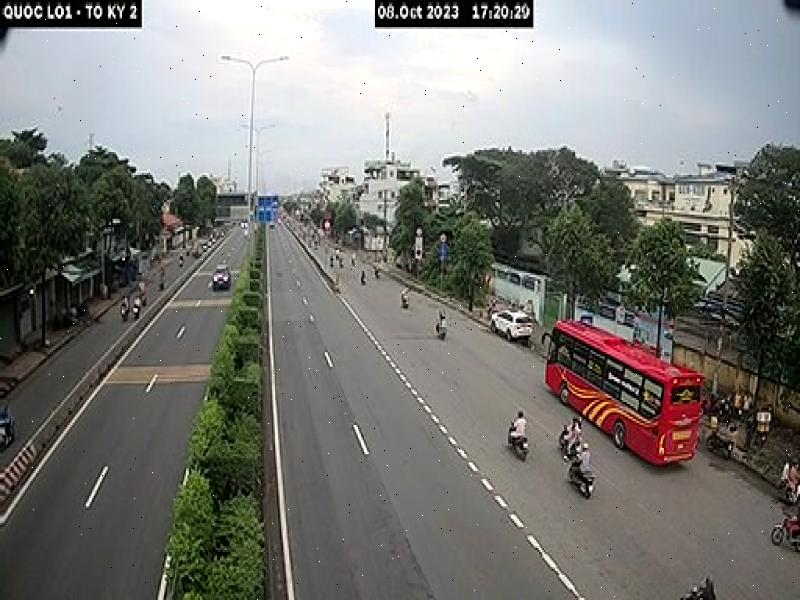bus: (547, 308, 700, 472)
car: (486, 294, 535, 349)
motorcycle: (563, 457, 594, 502), (770, 514, 800, 556), (552, 423, 574, 460), (506, 429, 533, 458), (676, 585, 698, 600)
